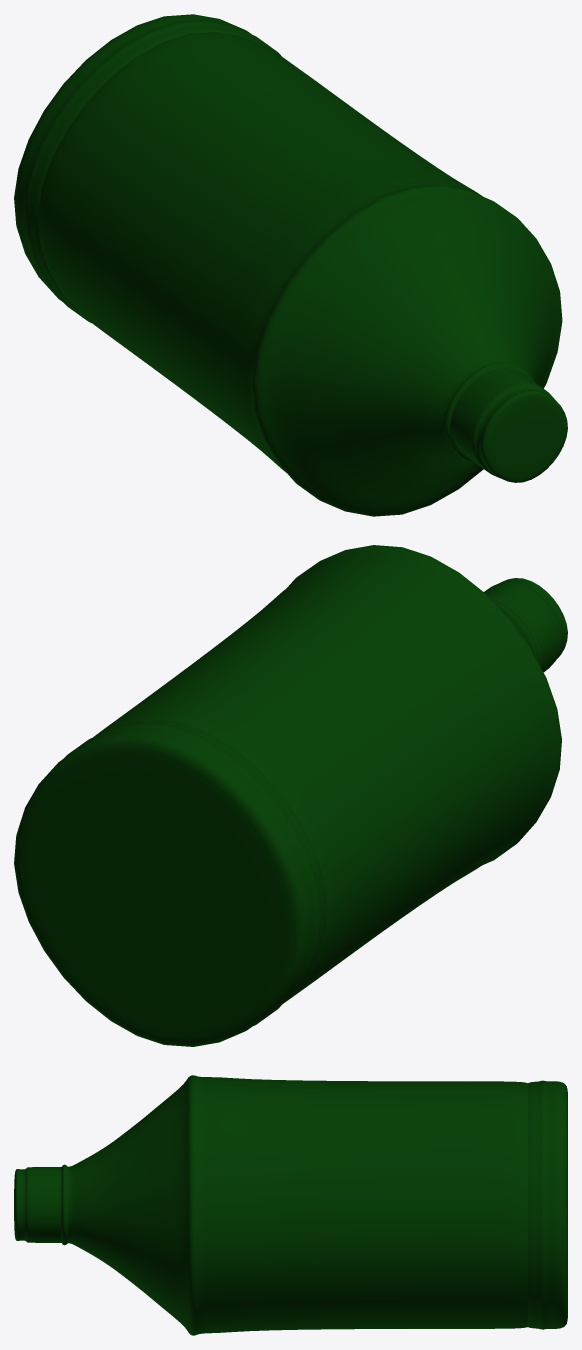
3 views of the same model, one above another, from view 1: azimuth 30°, elevation 25°; view 2: azimuth 150°, elevation 25°; view 3: azimuth 270°, elevation 25° (orthographic). The views are drawn at different scales.
Size of the model in its own units: 0.3885 by 0.3885 by 0.8102.
